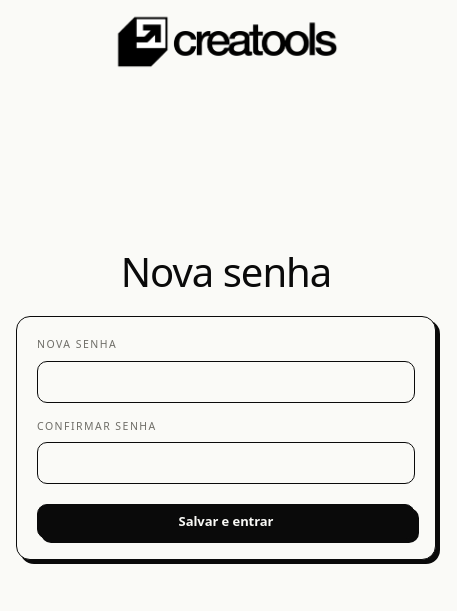
Test: /redefinir-senha › confirmação diferente é recusada
This screenshot has width=457, height=611.
Expected: the form with test id "redefinir-form" is shown, [16,316,436,560]
In the password field with test id "nova-senha": (226, 382) [37,361,415,402], type "senha-boa-123"
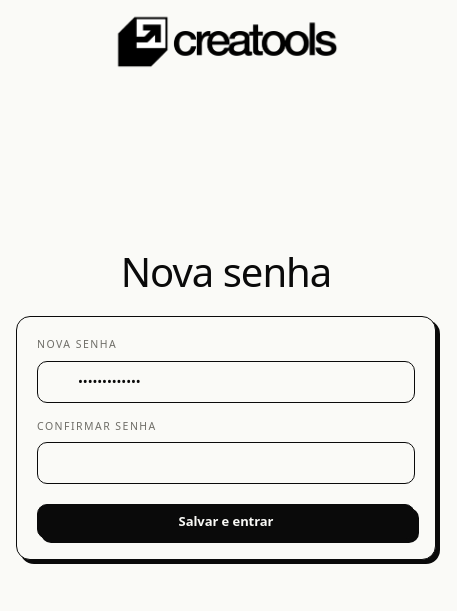
In the password field with test id "nova-senha-confirmacao": (226, 463) [37,442,415,484], type "outra-coisa"
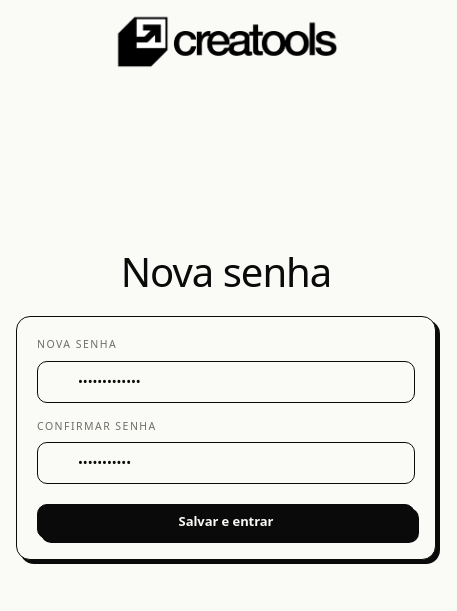
Submit the form with test id "redefinir-form", box [16,316,436,560]
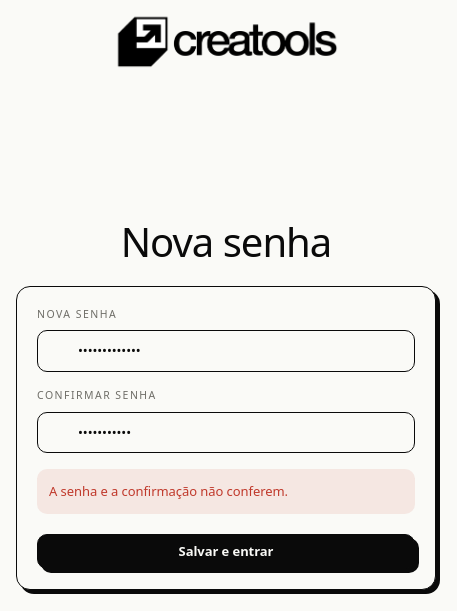
Now the message with test id "redefinir-erro" shows "não conferem", box [49,482,288,500]
